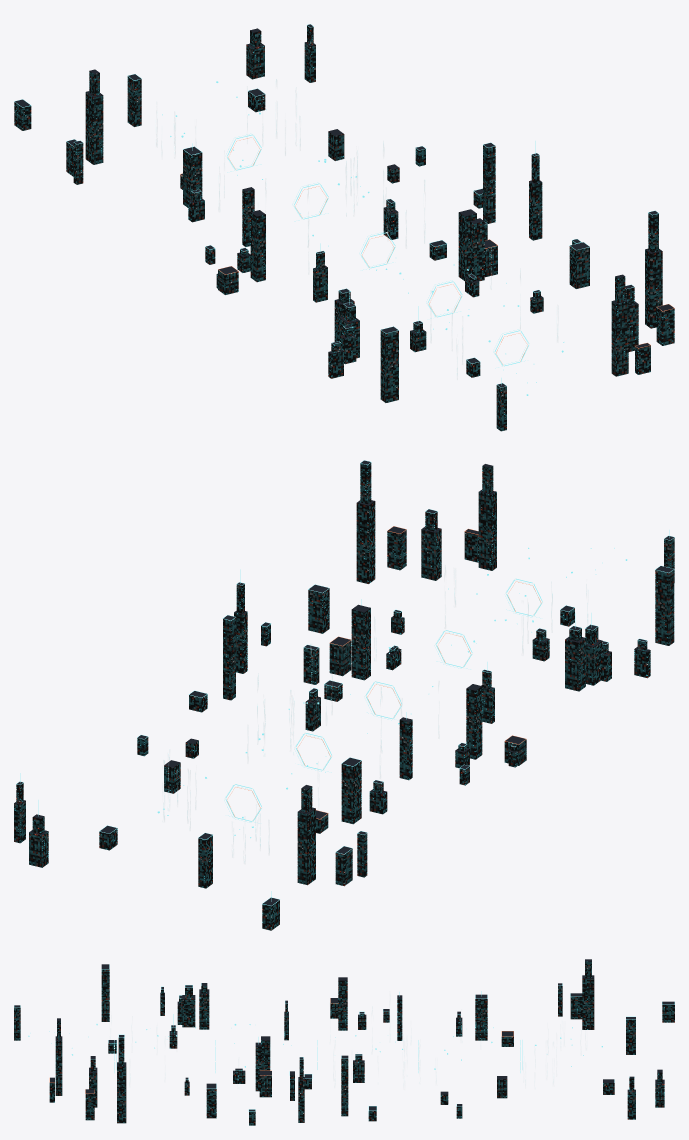
The model's file is world.glb.
3 views of the same model, one above another, from view 1: azimuth 30°, elevation 25°; view 2: azimuth 150°, elevation 25°; view 3: azimuth 270°, elevation 25° (orthographic). The views are drawn at different scales.
Visible parts, largest first — view 1: city, gateCyan, dataRain, cityCrownCyan; view 2: city, cityCrownCyan, dataRain, gateCyan; view 3: city, cityCrownCyan.
Boxes of the visible parts, box(x1,y1,x2,y2) form: city: box(14, 24, 674, 431); gateCyan: box(226, 133, 529, 368); dataRain: box(156, 79, 558, 379); cityCrownCyan: box(14, 24, 658, 387); city: box(14, 460, 674, 930); cityCrownCyan: box(16, 460, 674, 906); dataRain: box(162, 565, 588, 862); gateCyan: box(224, 578, 542, 823); city: box(14, 959, 674, 1125); cityCrownCyan: box(14, 964, 674, 1111).
Size of the model in its own units: 187 by 65.05 by 456.
Materials: 7 (2 with a texture image).
